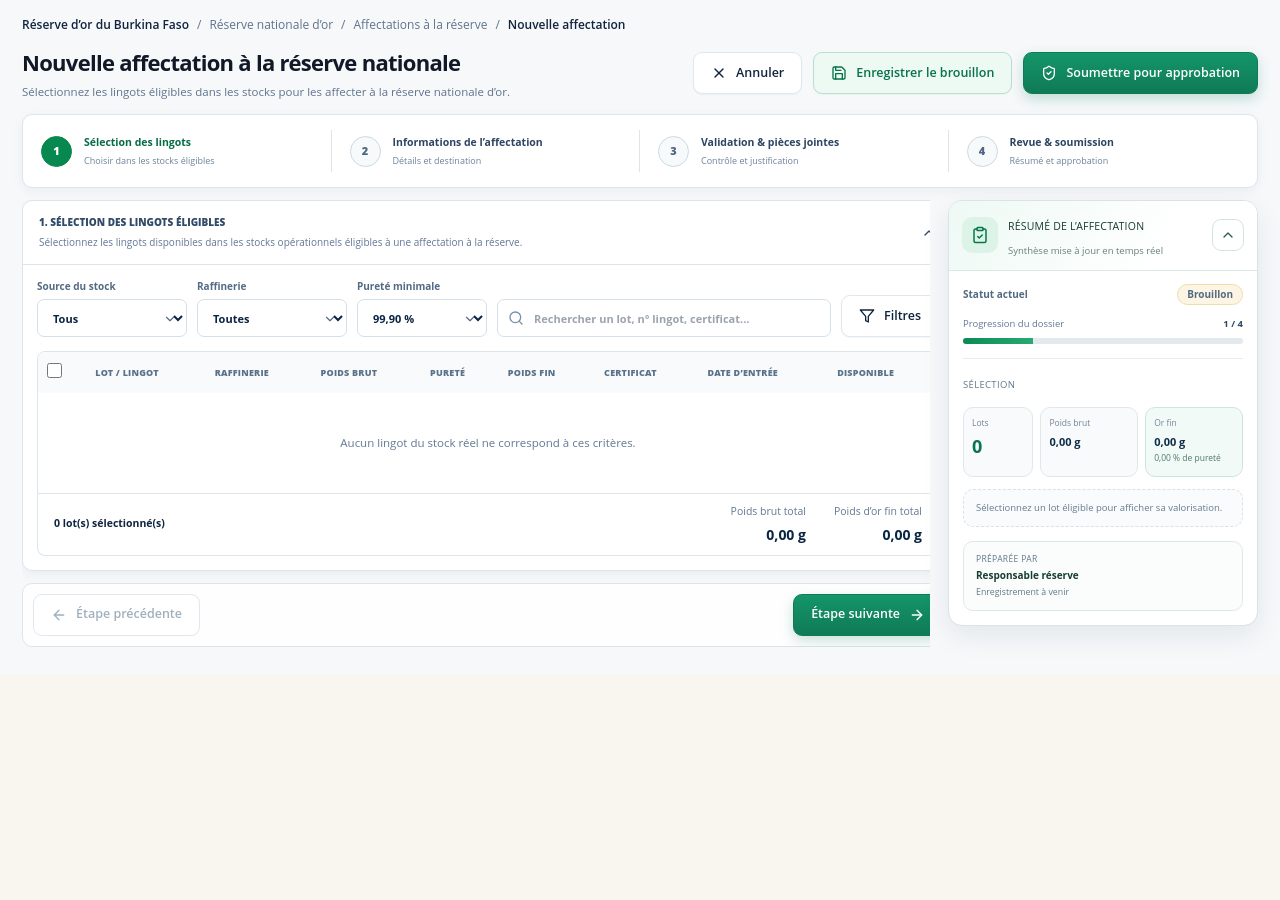
ReserveAllocationForm summary › présente une synthèse progressive et repliable à la première étape
Expected: the text "Synthèse mise à jour en temps réel" is shown, x1=1008 y1=244 x2=1163 y2=259
Expected: the text "Sélectionnez un lot éligible pour afficher sa valorisation." is shown, x1=963 y1=489 x2=1243 y2=527
Click the button named "Replier le résumé" at (1228, 235), box x1=1212 y1=219 x2=1244 y2=251
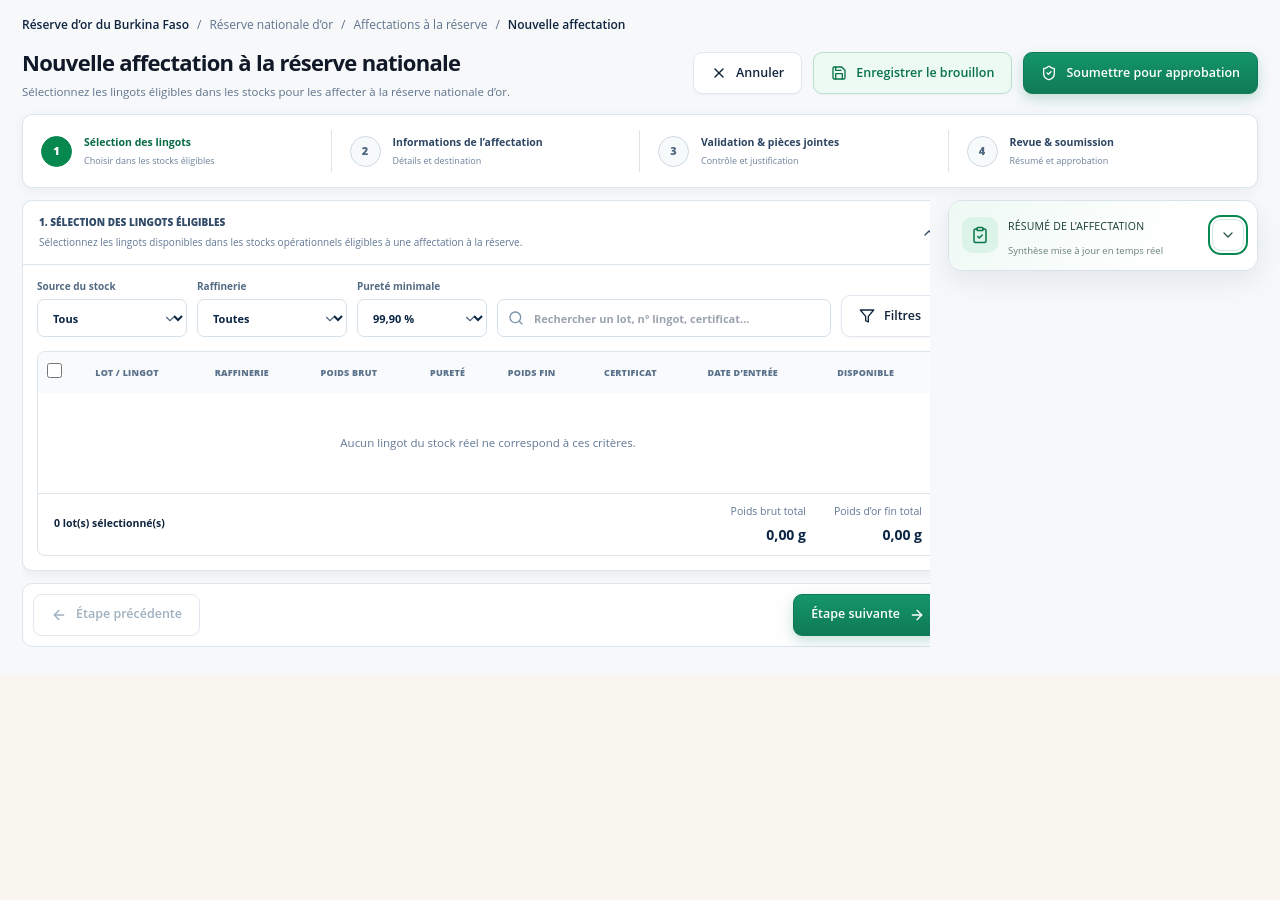
Result: the button named "Déplier le résumé" is collapsed at x1=1212 y1=219 x2=1244 y2=251
Result: the text "Statut actuel" is gone
